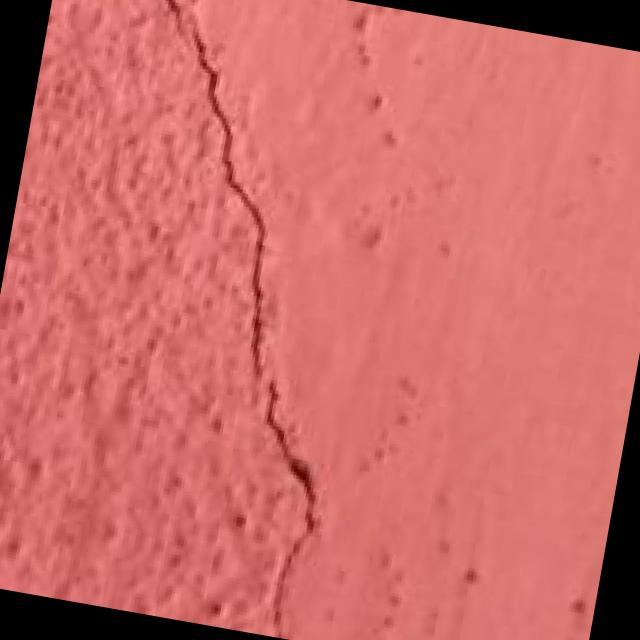crack: (54, 0, 428, 635)
